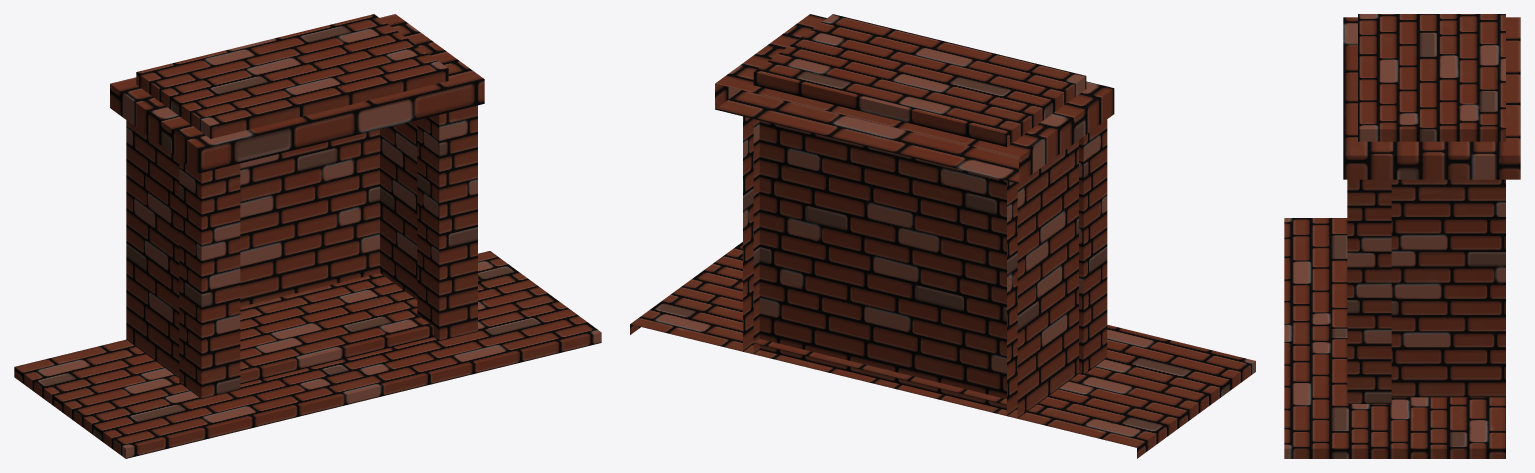
File: FirePlace_1.fbx
3 views of the same model, side by side, from view 1: azimuth 30°, elevation 25°; view 2: azimuth 150°, elevation 25°; view 3: azimuth 270°, elevation 25° (orthographic). The views are drawn at different scales.
Visible parts, largest first — view 1: polySurface1524; view 2: polySurface1524; view 3: polySurface1524.
Part boxes in pixels (x1,y1,x2,y2): polySurface1524: (14, 14, 601, 458); polySurface1524: (630, 14, 1255, 458); polySurface1524: (1284, 14, 1520, 458).
Size of the model in its own units: 4.8 by 2.65 by 2.08.
